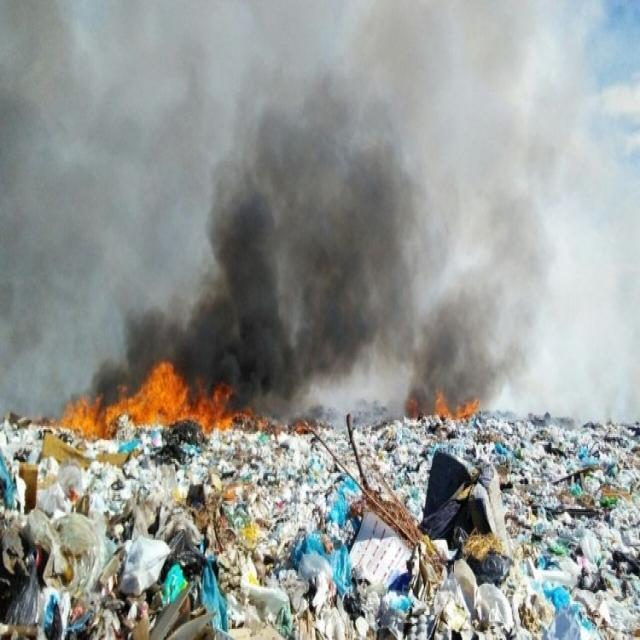Fire: (54, 358, 260, 435), (402, 392, 480, 420), (260, 414, 322, 431)
Smoke: (4, 6, 404, 352), (408, 1, 578, 386), (265, 356, 394, 405)
